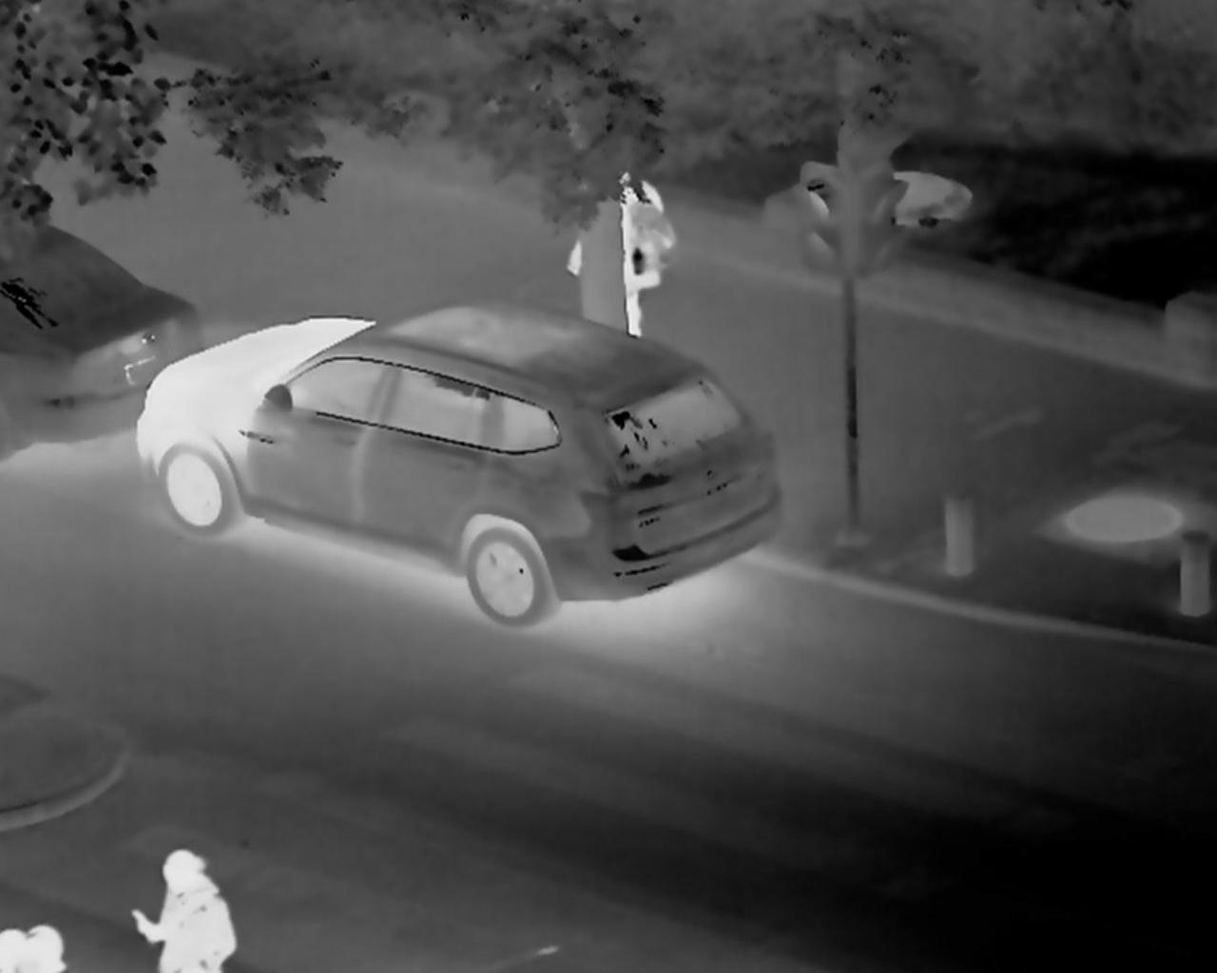person: (606, 181, 678, 361), (145, 851, 217, 973)
